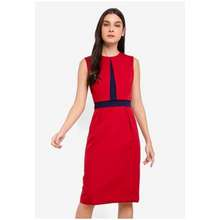C_dress: (71, 50, 145, 202)
